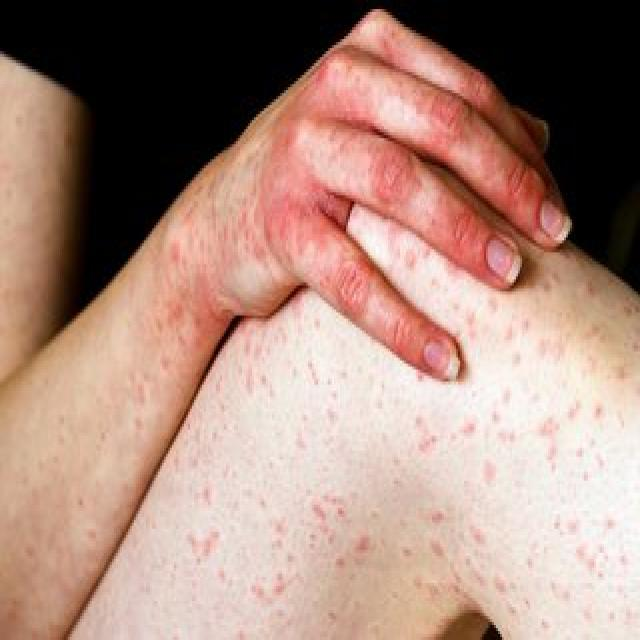hives: (160, 244, 640, 616), (145, 43, 598, 354)
